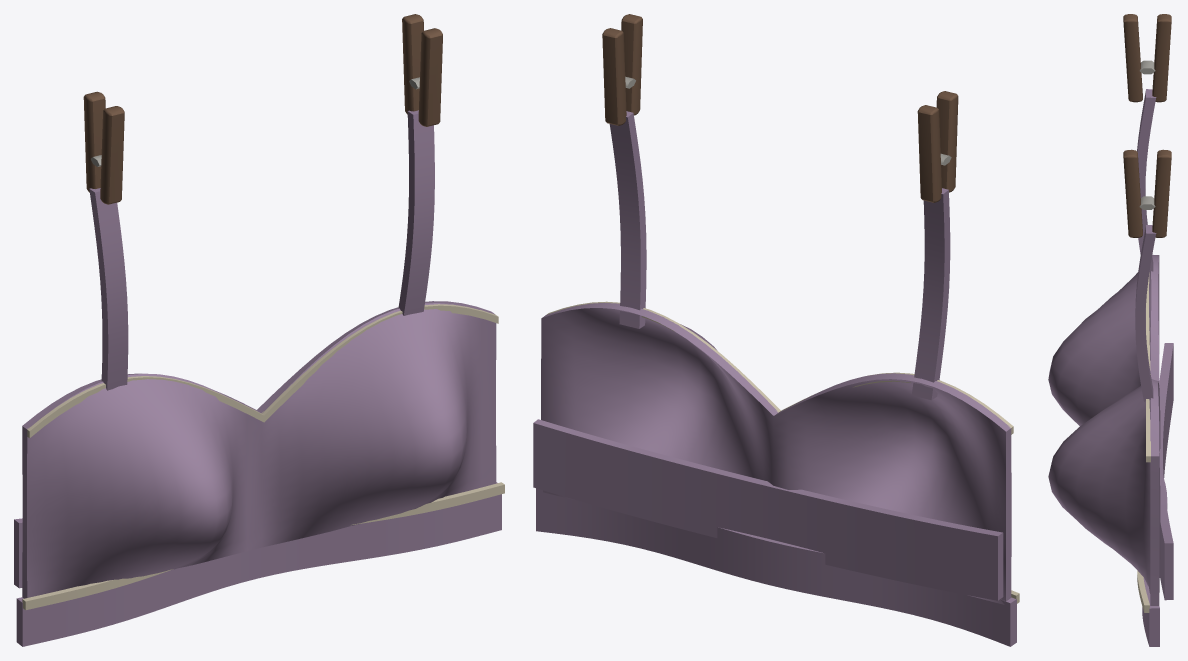
Rendered from bra-line-mint-a77c15260ef3.glb.
3 renders of one model, left to right at view 1: azimuth 30°, elevation 25°; view 2: azimuth 150°, elevation 25°; view 3: azimuth 270°, elevation 25°, orthographic. The views are drawn at different scales.
Parts seen in each view (by area): view 1: cloth-lilac, wood, cloth-cream; view 2: cloth-lilac, wood, cloth-cream; view 3: cloth-lilac, wood, cloth-cream, brushed.
Part boxes in pixels (x1=…): cloth-lilac: x1=14, y1=110, x2=501, y2=646; wood: x1=83, y1=14, x2=442, y2=204; cloth-cream: x1=22, y1=304, x2=504, y2=610; cloth-lilac: x1=533, y1=111, x2=1016, y2=646; wood: x1=602, y1=14, x2=958, y2=202; cloth-cream: x1=546, y1=301, x2=1019, y2=603; cloth-lilac: x1=1048, y1=89, x2=1173, y2=646; wood: x1=1123, y1=14, x2=1171, y2=237; cloth-cream: x1=1137, y1=272, x2=1150, y2=612; brushed: x1=1139, y1=60, x2=1155, y2=209.
Size of the model in its own units: 0.286 by 0.3 by 0.074.
